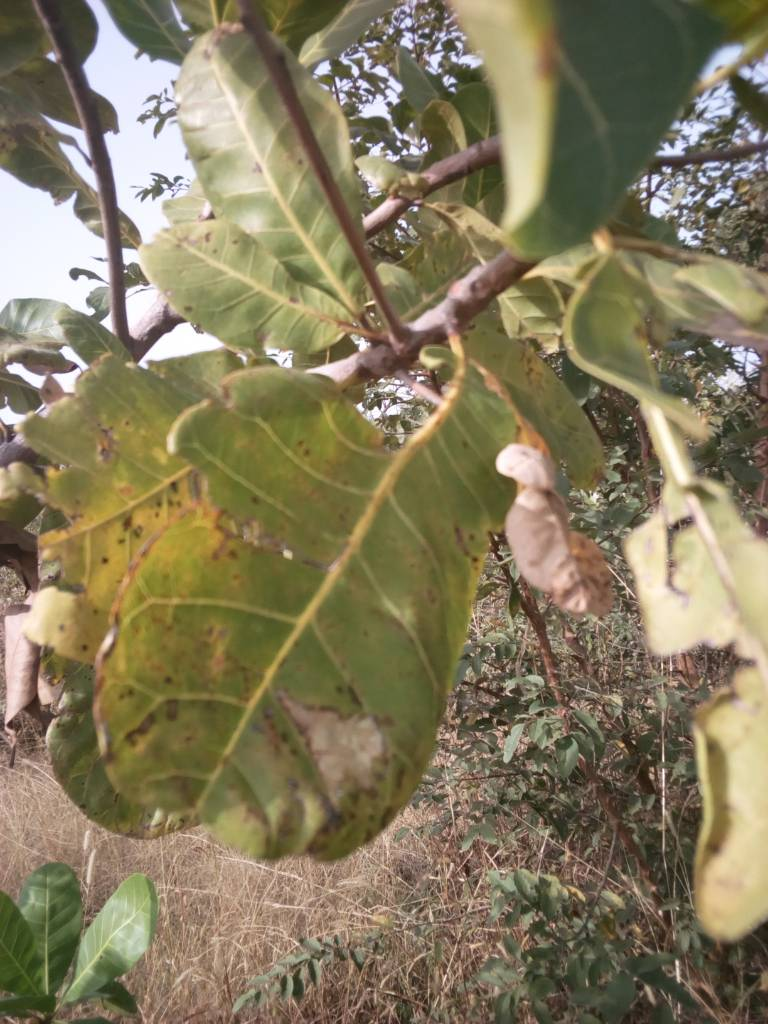Anthracnose: (40, 327, 525, 874)
